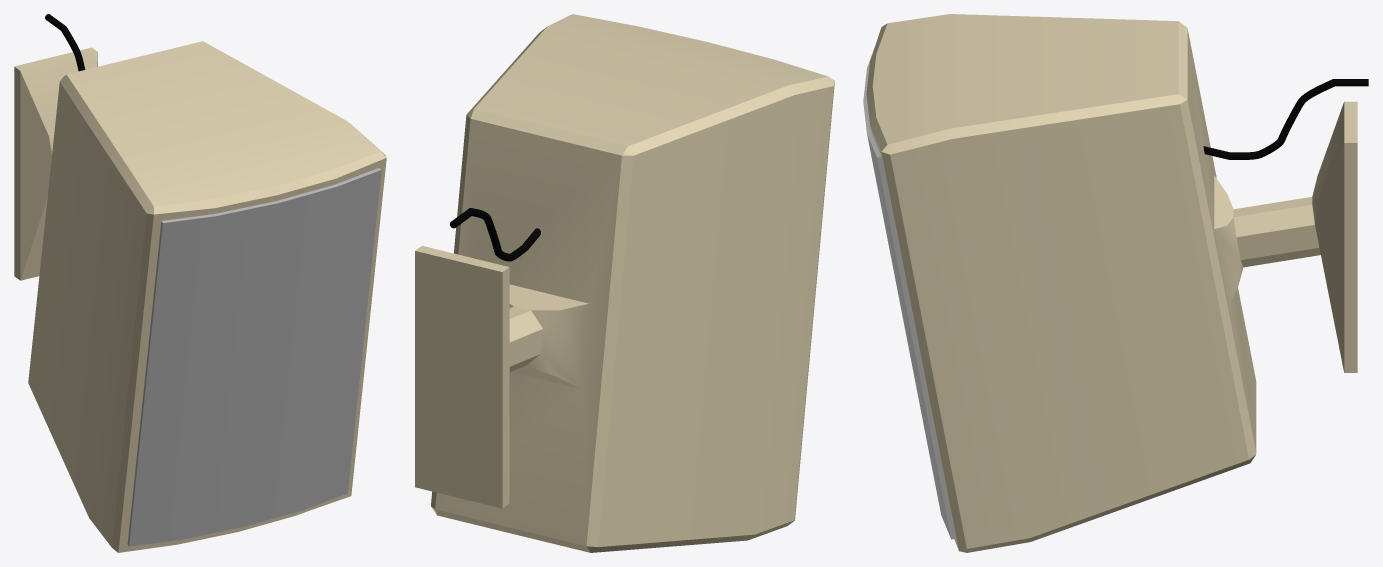
The model's file is 25_speaker.FBX.
3 renders of one model, left to right at view 1: azimuth 30°, elevation 25°; view 2: azimuth 150°, elevation 25°; view 3: azimuth 270°, elevation 25°, orthographic. The views are drawn at different scales.
Parts seen in each view (by area): view 1: speaker; view 2: speaker; view 3: speaker.
Boxes of the visible parts, x1,y1,x2,y2 form: speaker: (14, 14, 386, 552); speaker: (415, 14, 834, 552); speaker: (863, 14, 1368, 552).
Bounding box in the file's own units: 19.81 × 31.56 × 33.09.
